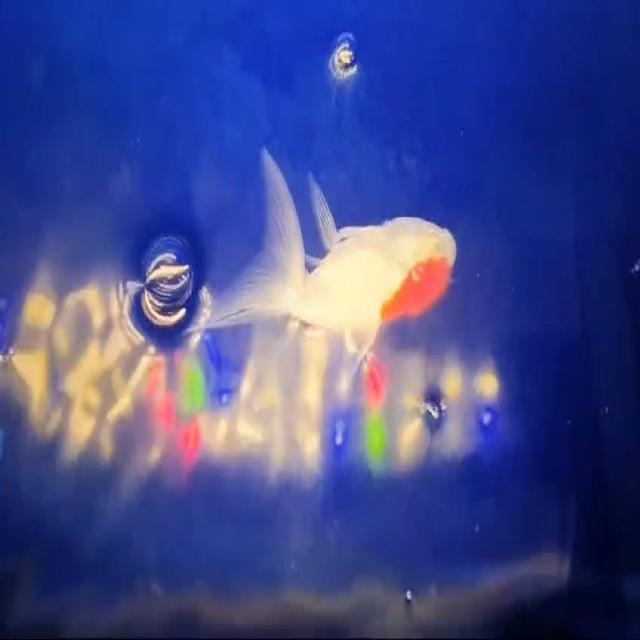fish: (189, 148, 472, 364)
